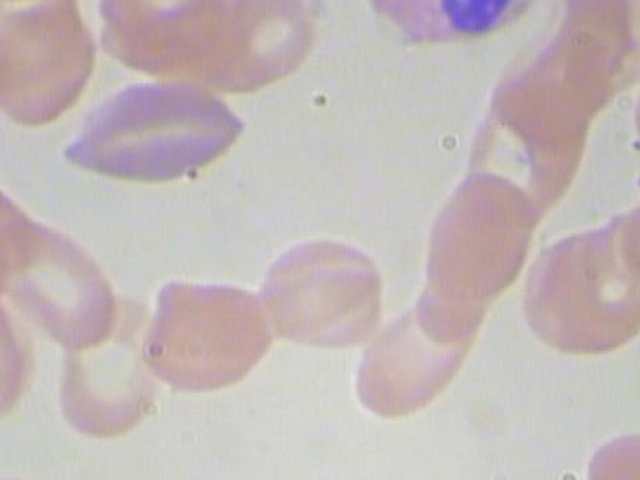Platelets: (629, 162, 640, 198)
RBC: (55, 76, 260, 191), (47, 289, 180, 437), (458, 76, 595, 215), (405, 167, 538, 302), (347, 302, 483, 417), (254, 234, 389, 349), (0, 0, 113, 131), (139, 276, 268, 390), (183, 0, 319, 90), (92, 0, 227, 61), (602, 177, 640, 295), (580, 426, 640, 480), (0, 464, 84, 480), (634, 0, 640, 56)
WBC: (350, 0, 549, 57)
